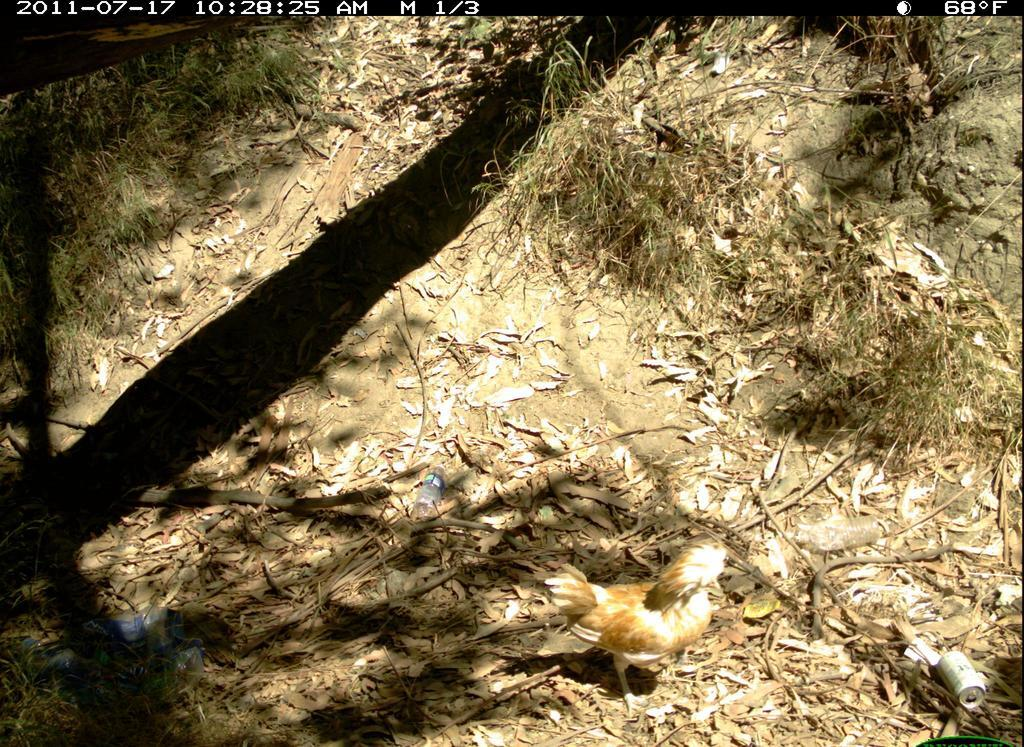bird: (565, 519, 740, 717)
